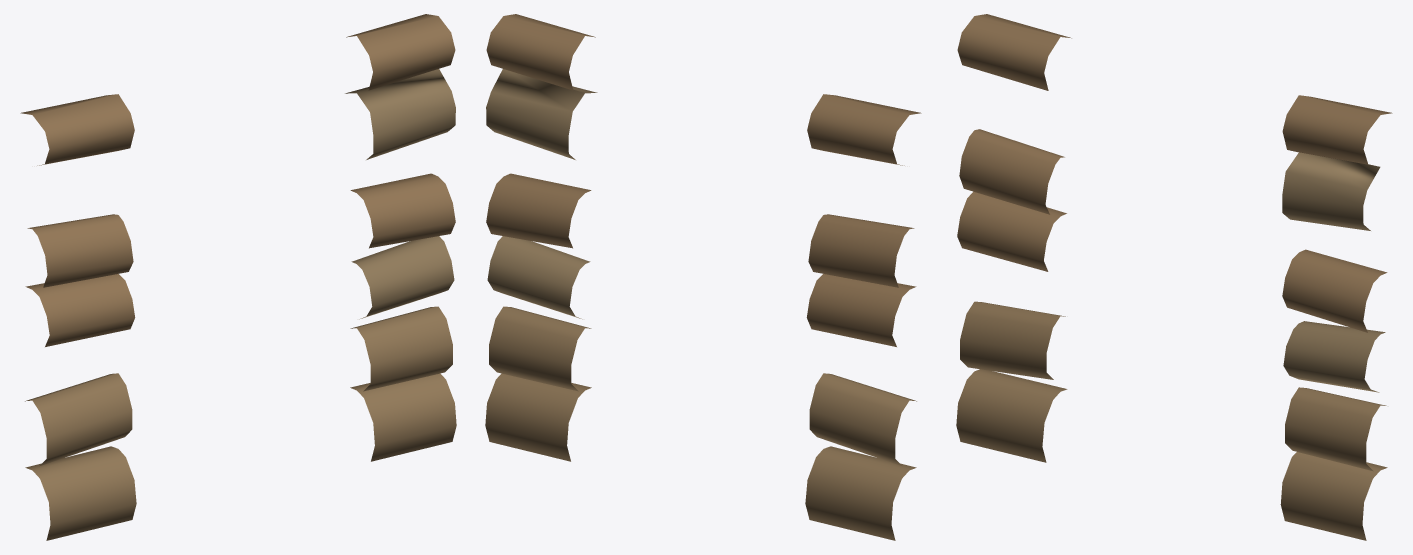
The model's file is rpgpp_av_wall_03_3x3_door_a.gltf.
3 views of the same model, side by side, from view 1: azimuth 30°, elevation 25°; view 2: azimuth 150°, elevation 25°; view 3: azimuth 330°, elevation 25° (orthographic).
Parts seen in each view (by area): view 1: rpgpp_av_wall_03_3x3_door_a; view 2: rpgpp_av_wall_03_3x3_door_a; view 3: rpgpp_av_wall_03_3x3_door_a.
Boxes of the visible parts, left/top/right/bottom form: rpgpp_av_wall_03_3x3_door_a: left=20, top=14, right=456, bottom=540; rpgpp_av_wall_03_3x3_door_a: left=485, top=14, right=921, bottom=540; rpgpp_av_wall_03_3x3_door_a: left=956, top=14, right=1392, bottom=540.
Bounding box in the file's own units: 0.03 × 0.03 × 0.00463.
1 material, 1 textured.
